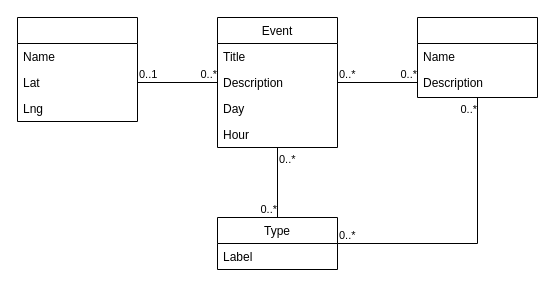
This 555x290 diagram has some shape labels left out. The shapes that lost their labels are listed below. From the top down, each one's box as (x1, y1, x2, y2) in pixels, then its label:
(16, 16, 138, 122): Place
(416, 16, 538, 98): Guest
